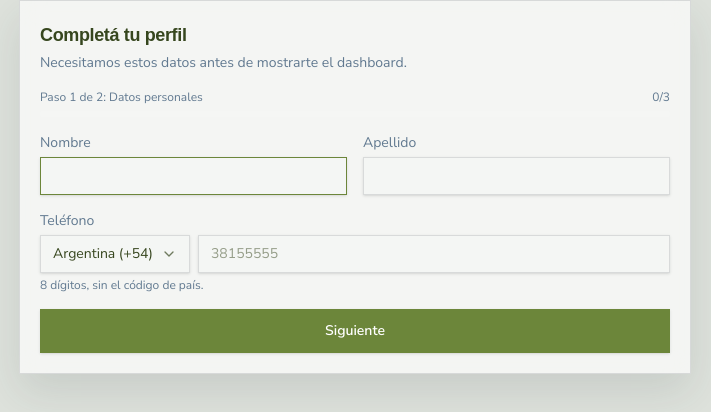
Test: ProfileGate (KAN-167) › un colaborador ve la Inmobiliaria pre-cargada y bloqueada con la del dueño de su agencia
Type "Juan" into the field labelled "Nombre" at (194, 176), box [40,157,347,195]
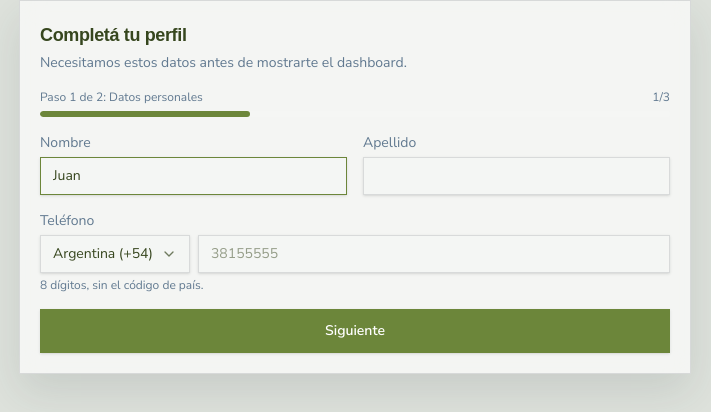
Type "Pérez" into the field labelled "Apellido" at (516, 176), box [363,157,670,195]
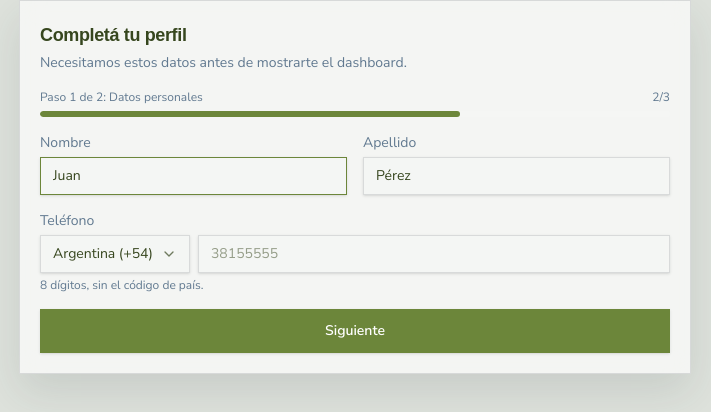
Type "38155512" into the field named "Número de teléfono" at (434, 254), box [198,235,670,273]
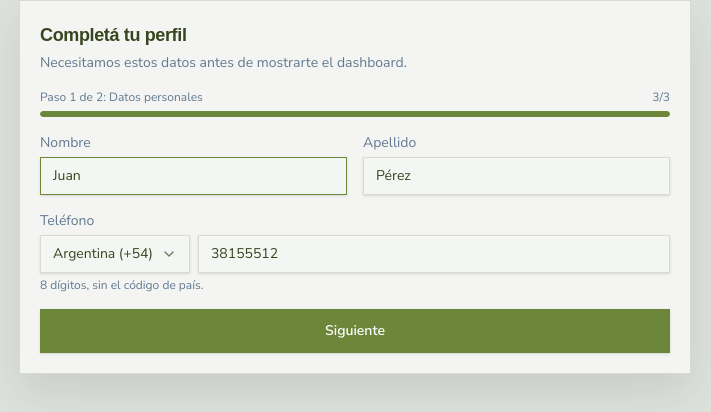
Click the button "Siguiente" at (355, 331), box [40,309,670,353]
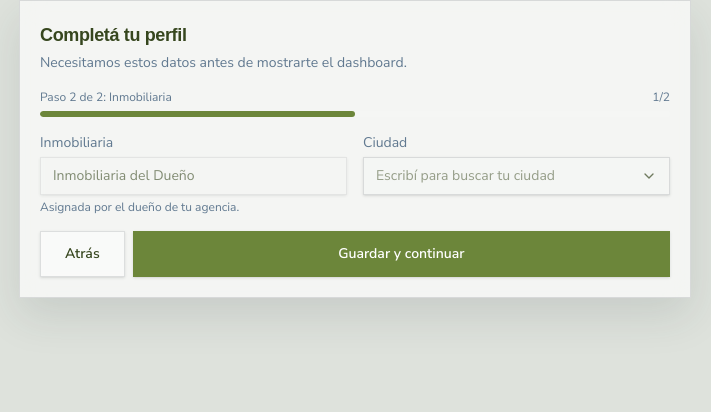
Check: the dropdown labelled "Ciudad" is enabled, box [376,166,633,186]
Check: the field labelled "Inmobiliaria" holds "Inmobiliaria del Dueño", box [40,157,347,195]
Check: the field labelled "Inmobiliaria" is disabled, box [40,157,347,195]
